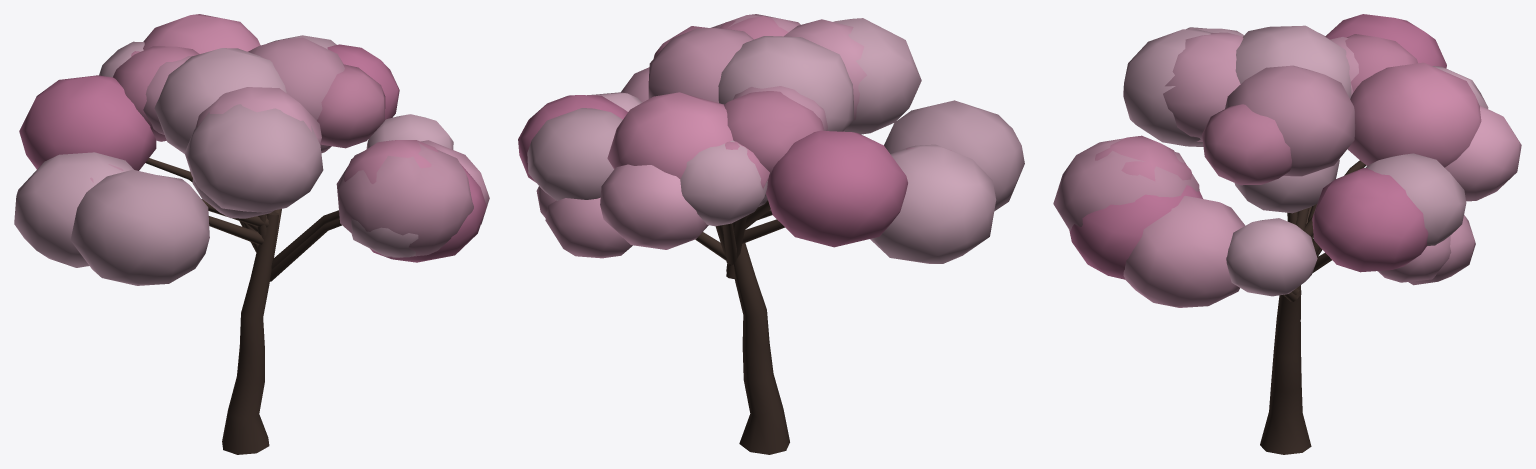
File: tree_sakura_wide.glb
3 renders of one model, left to right at view 1: azimuth 30°, elevation 25°; view 2: azimuth 150°, elevation 25°; view 3: azimuth 270°, elevation 25°, orthographic. The views are drawn at different scales.
Parts seen in each view (by area): view 1: crown, trunk; view 2: crown, trunk; view 3: crown, trunk.
Boxes of the visible parts, x1,y1,x2,y2 form: crown: [14, 14, 489, 285]; trunk: [145, 158, 341, 454]; crown: [518, 14, 1024, 263]; trunk: [695, 200, 789, 454]; crown: [1053, 14, 1521, 307]; trunk: [1260, 160, 1366, 454].
Bounding box in the file's own units: 5.31 × 4.82 × 5.06.
